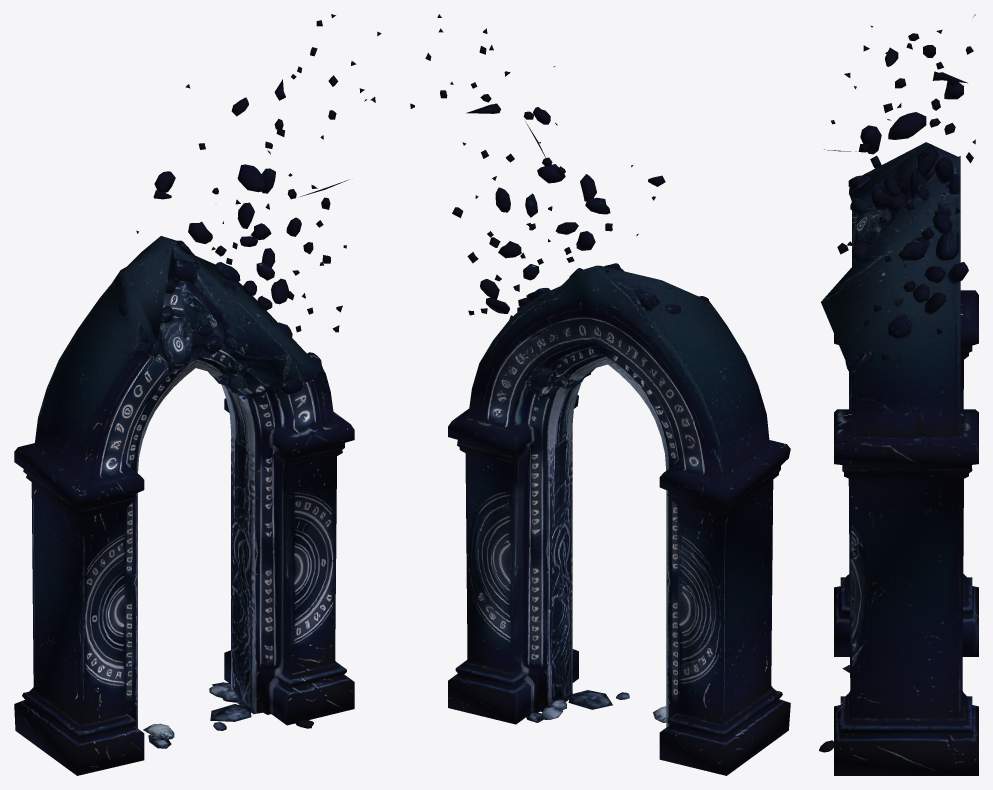
3 views of the same model, side by side, from view 1: azimuth 30°, elevation 25°; view 2: azimuth 150°, elevation 25°; view 3: azimuth 270°, elevation 25° (orthographic). The views are drawn at different scales.
Visible parts, largest first — view 1: tripo_node_6aee0e75-b9c4-4bad-90a3-b437c161f11f; view 2: tripo_node_6aee0e75-b9c4-4bad-90a3-b437c161f11f; view 3: tripo_node_6aee0e75-b9c4-4bad-90a3-b437c161f11f.
Boxes of the visible parts, box(x1,y1,x2,y2) form: tripo_node_6aee0e75-b9c4-4bad-90a3-b437c161f11f: box(14, 14, 381, 775); tripo_node_6aee0e75-b9c4-4bad-90a3-b437c161f11f: box(410, 14, 790, 775); tripo_node_6aee0e75-b9c4-4bad-90a3-b437c161f11f: box(819, 14, 978, 775).
Bounding box in the file's own units: 0.5371 × 0.998 × 0.1895.
1 material, 1 textured.
